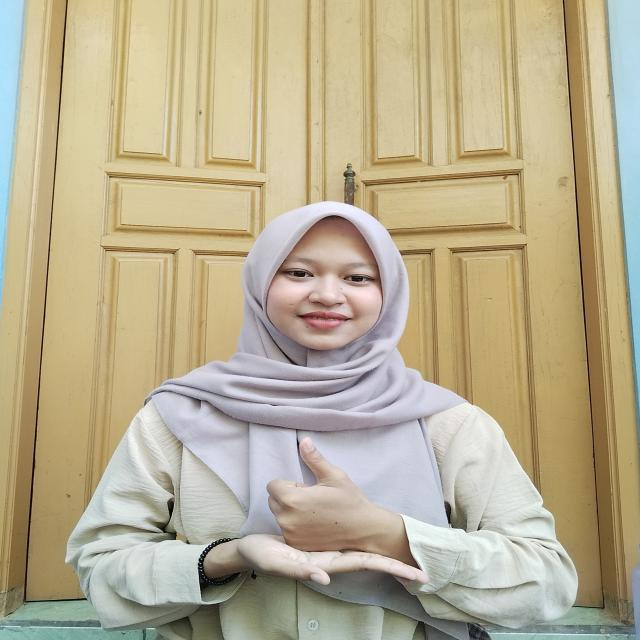cantik: (187, 424, 436, 591)
